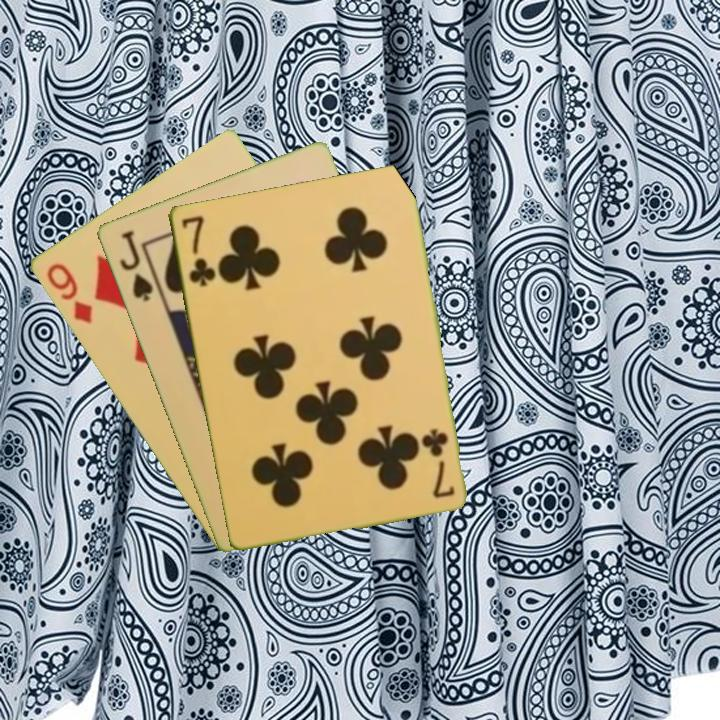7c: (177, 211, 217, 289), (421, 424, 458, 501)
9d: (42, 259, 95, 327)
Js: (115, 226, 156, 304)
